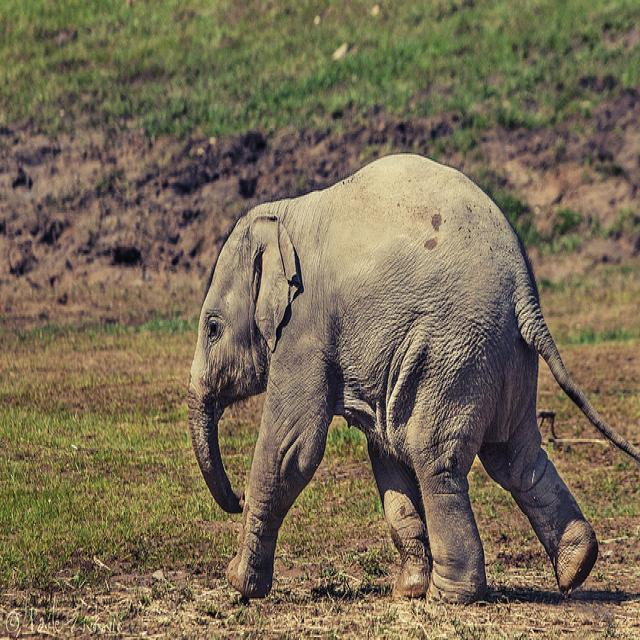Elephant: (186, 150, 639, 606)
